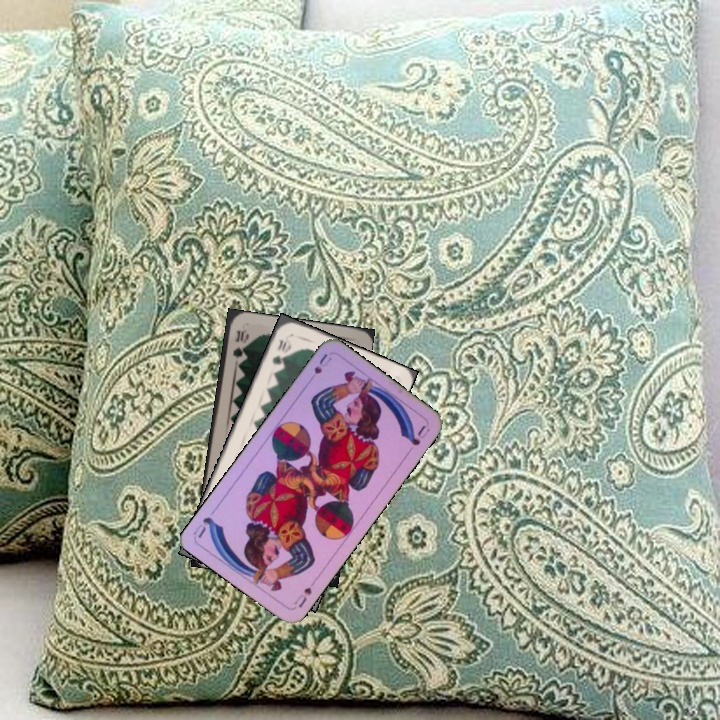G10: (268, 332, 290, 367), (229, 326, 248, 361)
SU: (290, 575, 319, 610), (310, 349, 334, 377)
